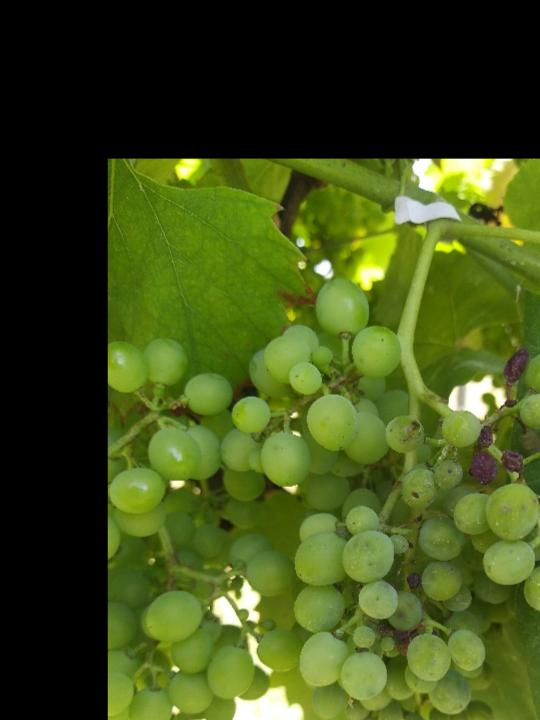grape: (221, 275, 540, 720)
